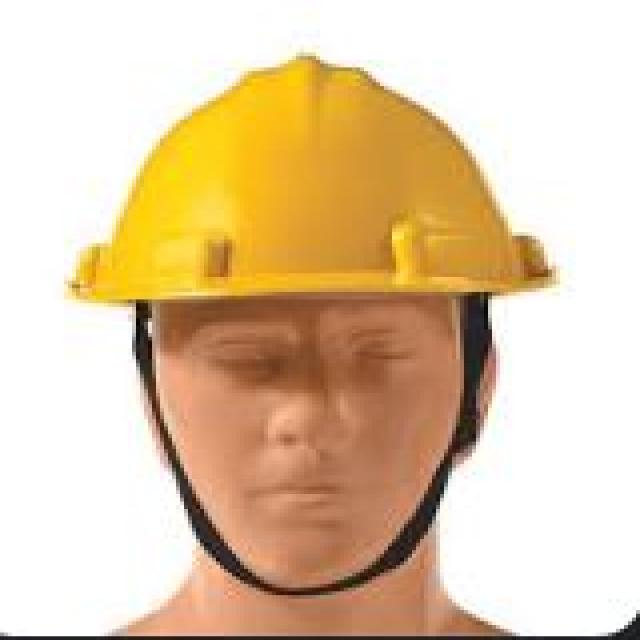Helmet: (49, 52, 599, 602)
